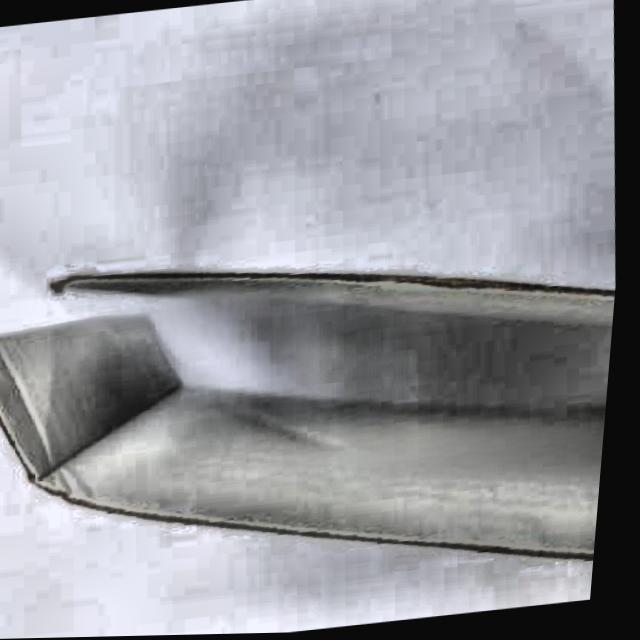Cardbox: (0, 121, 632, 640)
